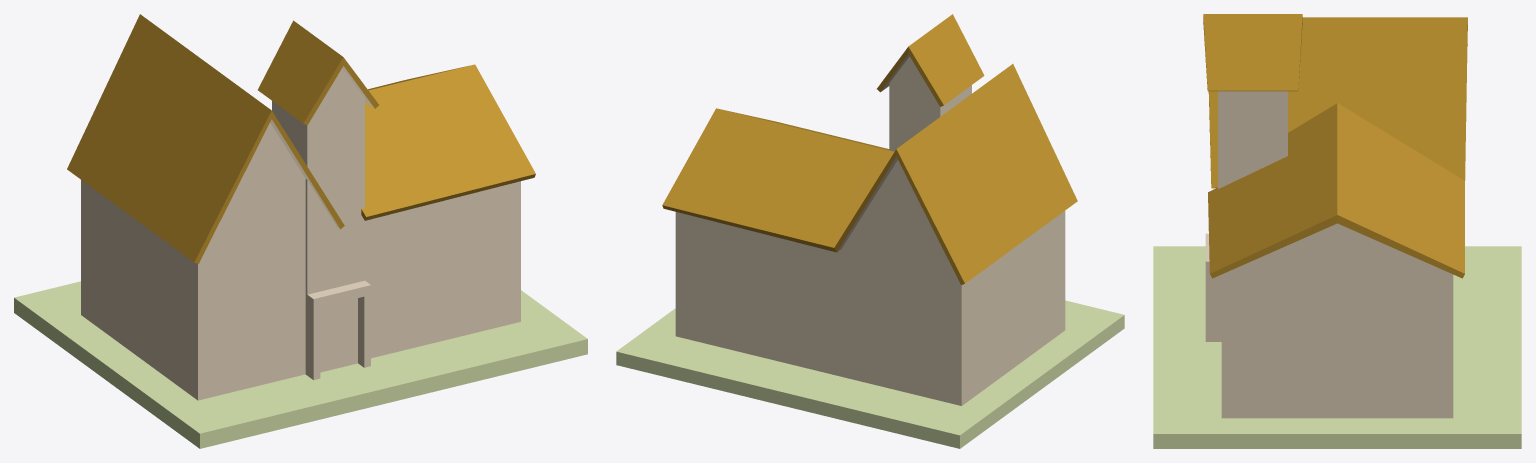
Rendered from Casinha_2.fbx.
3 renders of one model, left to right at view 1: azimuth 30°, elevation 25°; view 2: azimuth 150°, elevation 25°; view 3: azimuth 270°, elevation 25°, orthographic. The views are drawn at different scales.
Parts seen in each view (by area): view 1: Casinha_2; view 2: Casinha_2; view 3: Casinha_2.
Part boxes in pixels (x1,y1,x2,y2): Casinha_2: (14, 14, 587, 448); Casinha_2: (616, 14, 1124, 448); Casinha_2: (1153, 14, 1521, 448).
Size of the model in its own units: 150 by 123 by 124.
1 material, 1 textured.
